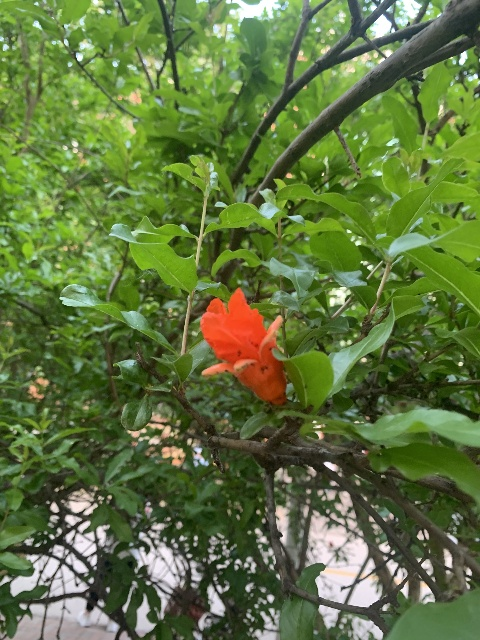flower: (199, 286, 286, 406)
